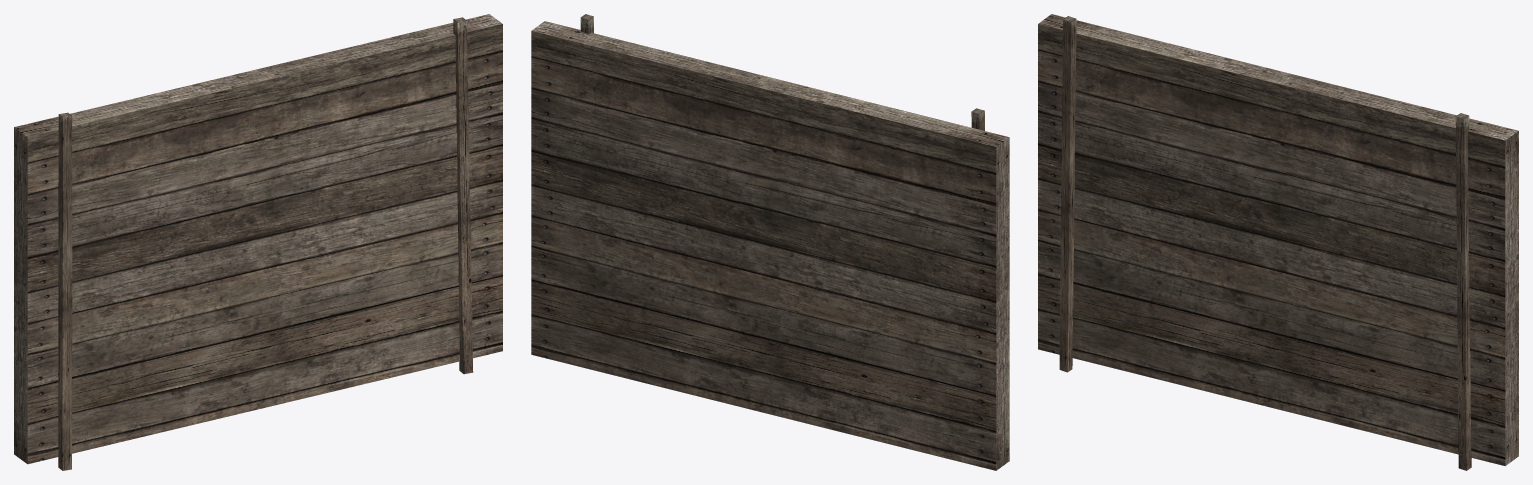
The model's file is d_sg_shouyou_gaojia04_qt.FBX.
3 renders of one model, left to right at view 1: azimuth 30°, elevation 25°; view 2: azimuth 150°, elevation 25°; view 3: azimuth 330°, elevation 25°, orthographic.
Visible parts, largest first — view 1: d_sg_shouyou_matou01_qt; view 2: d_sg_shouyou_matou01_qt; view 3: d_sg_shouyou_matou01_qt.
Part boxes in pixels (box(x1,y1,x2,y2)): d_sg_shouyou_matou01_qt: box(14, 14, 502, 470); d_sg_shouyou_matou01_qt: box(531, 14, 1009, 470); d_sg_shouyou_matou01_qt: box(1038, 14, 1518, 470).
Size of the model in its own units: 12.51 by 8.93 by 0.963.
